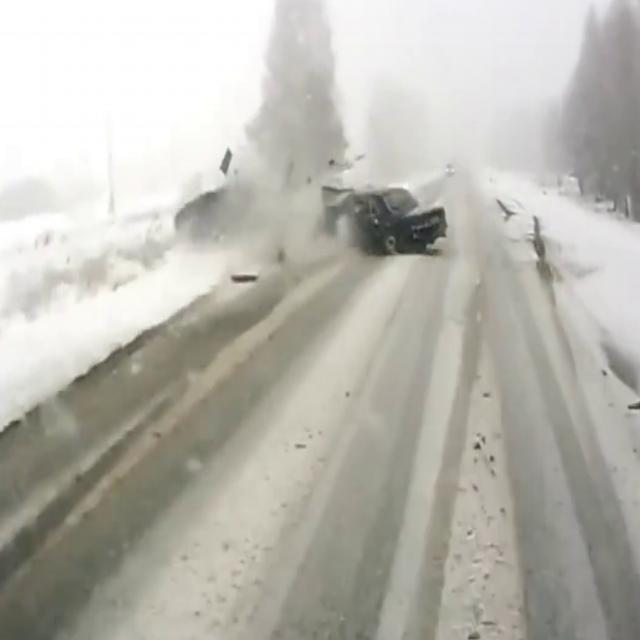accident: (296, 168, 496, 276)
